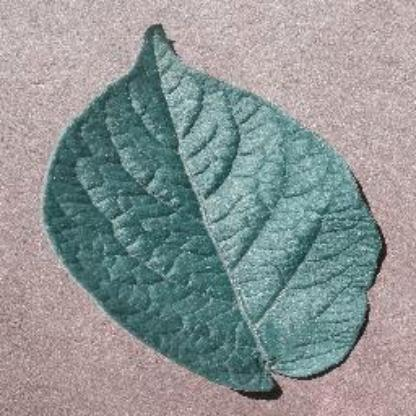Healthy-plant: (32, 20, 388, 396)
